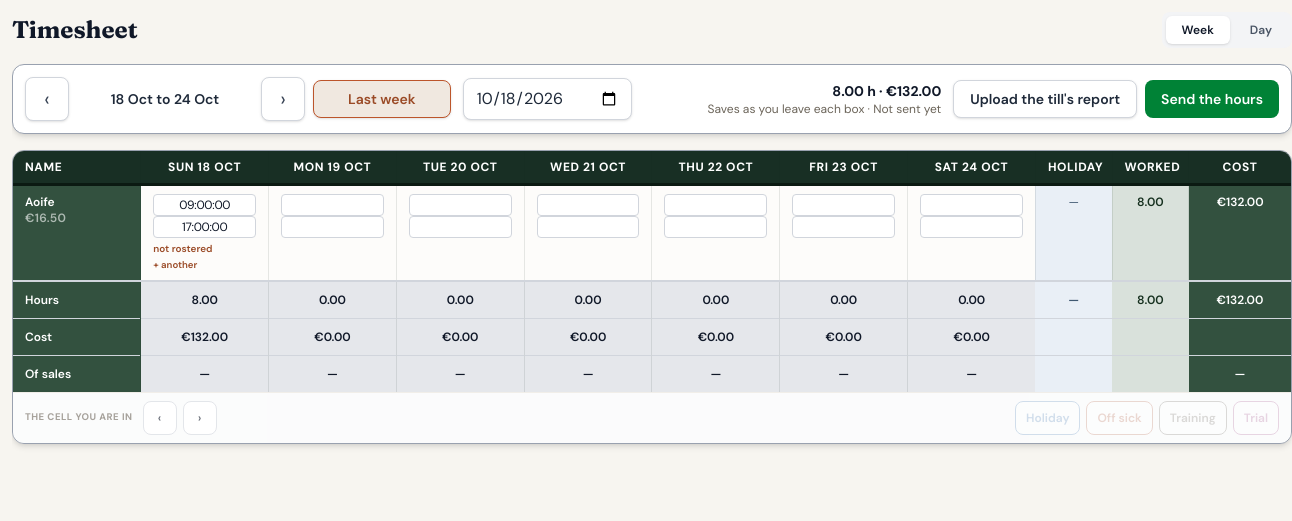
a start and a finish at the same time › is not saved, and the figure goes back
Step 1. Replace the text in the 1st field named "Clock out" with "090000" → (205, 227), box [153,216,256,238]
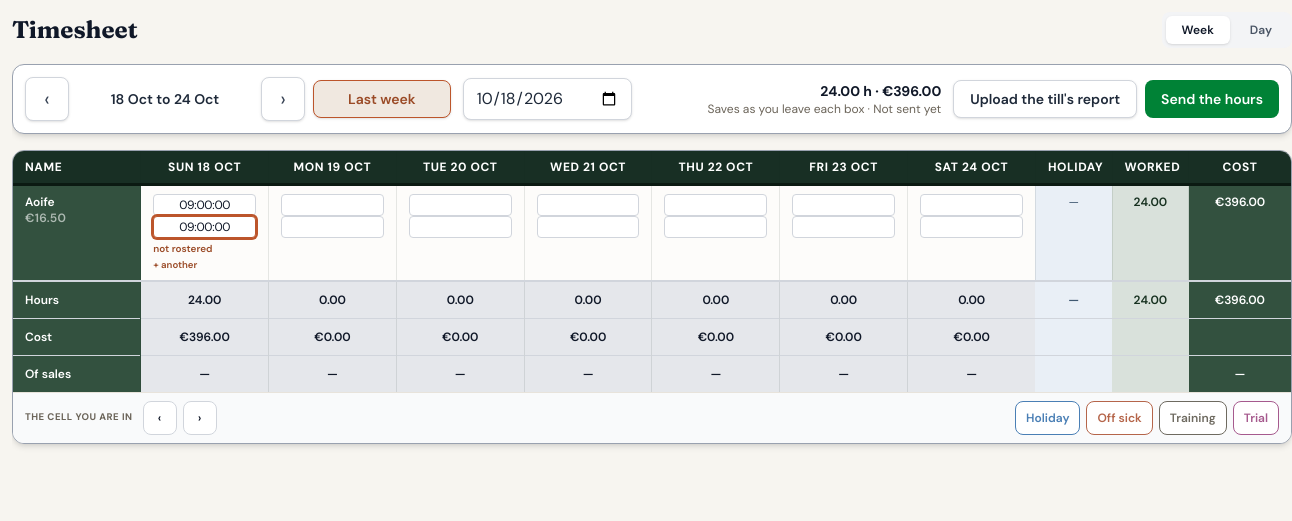
Step 2. Press Tab
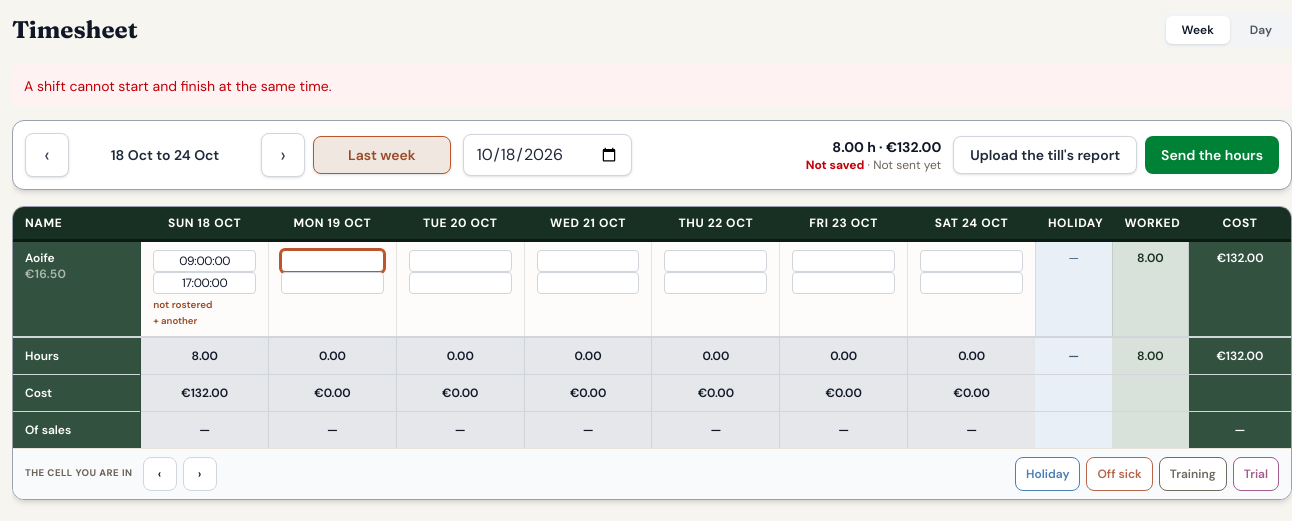
Now the text "A shift cannot start and finish at the same time." is shown, box [12,64,1291,108]
Now the 1st field named "Clock out" holds "17:00:00", box [153,272,256,294]
